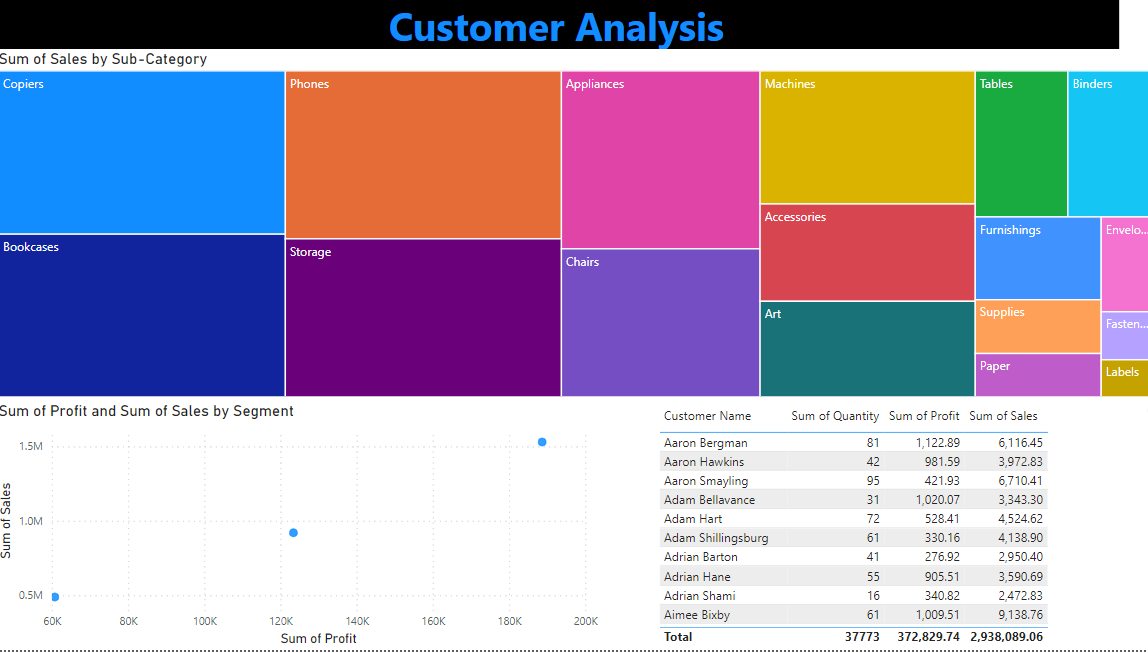

The page's visual inventory and layout, read from the dashboard file:
{"tool":"powerbi","page":{"name":"Page 3","canvas":[1280,720],"ordinal":2},"visuals":[{"type":"textbox","box":[0,0,1235,72.7],"z":1000},{"type":"tableEx","fields":{"Values":["Orders.Customer Name","Orders.Quantity","Orders.Profit","Orders.Sales"]},"box":[724.5,447.3,555.7,273.1],"z":2000},{"type":"treemap","fields":{"Group":["Orders.Sub-Category"],"Values":["Orders.Sales"]},"box":[0,60.4,1280.3,387],"z":4000},{"type":"scatterChart","fields":{"X":["Orders.Profit"],"Y":["Orders.Sales"],"Category":["Orders.Segment"]},"box":[0,447.3,668.3,273.1],"z":4001}]}

Visuals, with their boxes in screenshot pixels (x1, y1, x2, y2), scaled from the page's 1280x720 canvas onto the 1148x653 screenshot:
textbox: {"left": 0, "top": 0, "right": 1108, "bottom": 66}
tableEx - Orders.Customer Name x Orders.Quantity: {"left": 650, "top": 406, "right": 1147, "bottom": 652}
treemap - Orders.Sub-Category x Orders.Sales: {"left": 0, "top": 55, "right": 1147, "bottom": 406}
scatterChart - Orders.Profit x Orders.Sales: {"left": 0, "top": 406, "right": 599, "bottom": 652}
